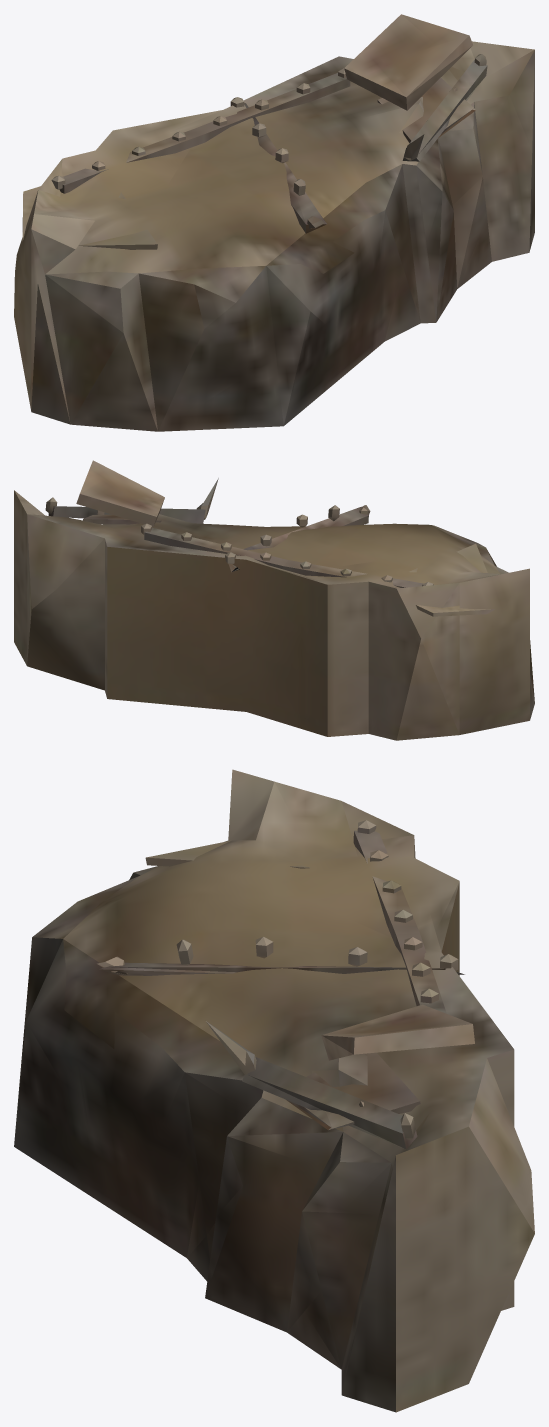
File: crash-site-spaceship-wreck-small-2.glb
The picture shows the model from 3 angles, top to bottom: view 1: azimuth 30°, elevation 25°; view 2: azimuth 150°, elevation 25°; view 3: azimuth 270°, elevation 25°; orthographic projection. The views are drawn at different scales.
Visible parts, largest first — view 1: body; view 2: body; view 3: body.
Part boxes in pixels (x1,y1,x2,y2): body: (14,14,534,431); body: (14,460,534,740); body: (14,769,534,1412).
Size of the model in its own units: 1.35 by 0.522 by 0.7706.
1 material, 1 textured.
